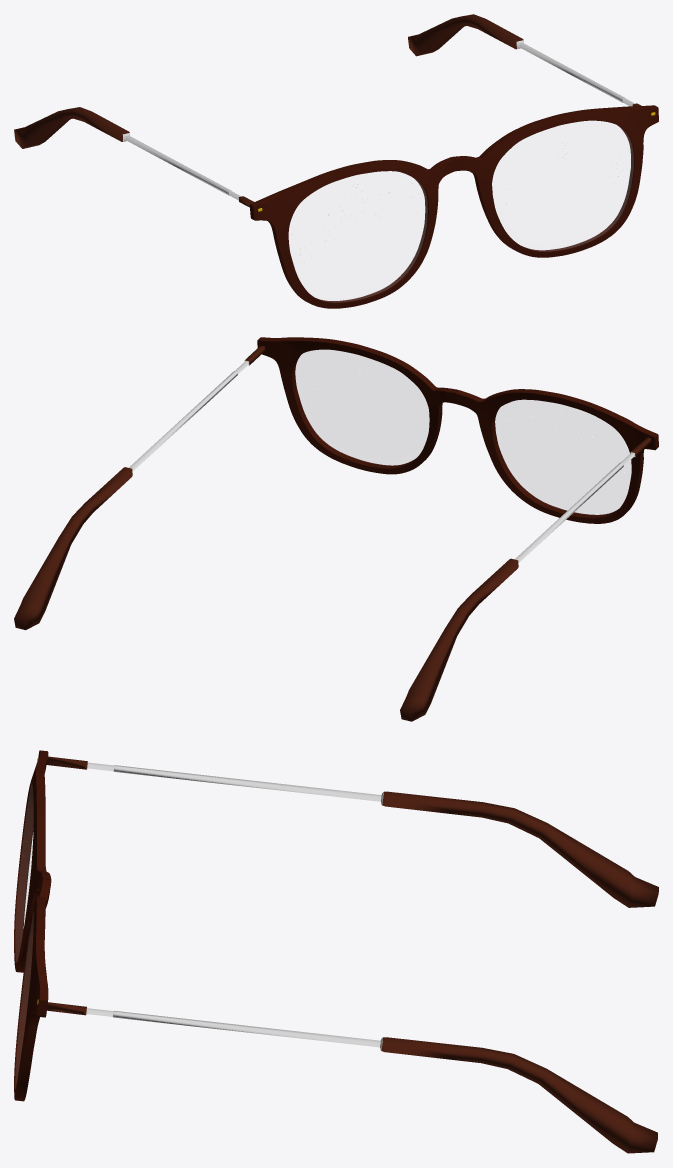
File: The Walnut Scholar.glb
3 renders of one model, top to bottom at view 1: azimuth 30°, elevation 25°; view 2: azimuth 150°, elevation 25°; view 3: azimuth 270°, elevation 25°, orthographic. The views are drawn at different scales.
Parts seen in each view (by area): view 1: glass finish.004, glass finish, glass finish.002, glass finish.003; view 2: glass finish.004, glass finish, glass finish.002, glass finish.003; view 3: glass finish.002, glass finish, glass finish.003, glass finish.004.
Part boxes in pixels (x1,y1,x2,y2): glass finish.004: (289, 121, 633, 301); glass finish: (249, 105, 658, 308); glass finish.002: (14, 14, 641, 207); glass finish.003: (122, 40, 634, 200); glass finish.004: (295, 350, 630, 514); glass finish: (257, 337, 658, 523); glass finish.002: (14, 346, 651, 721); glass finish.003: (129, 360, 635, 562); glass finish.002: (46, 756, 658, 1153); glass finish: (14, 750, 51, 1101); glass finish.003: (86, 761, 383, 1050); glass finish.004: (16, 785, 32, 1082).
Size of the model in its own units: 11.85 by 3.68 by 12.7.
